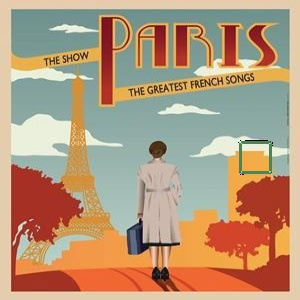square: (237, 139, 274, 176)
